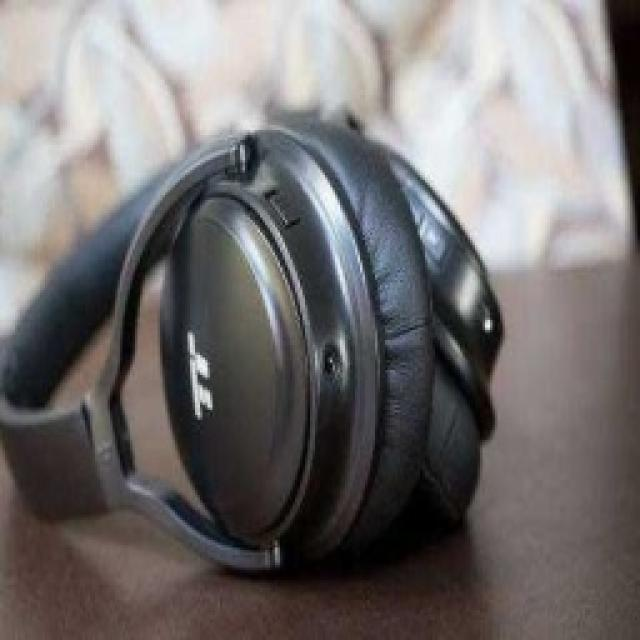headphones: (0, 105, 505, 575)
